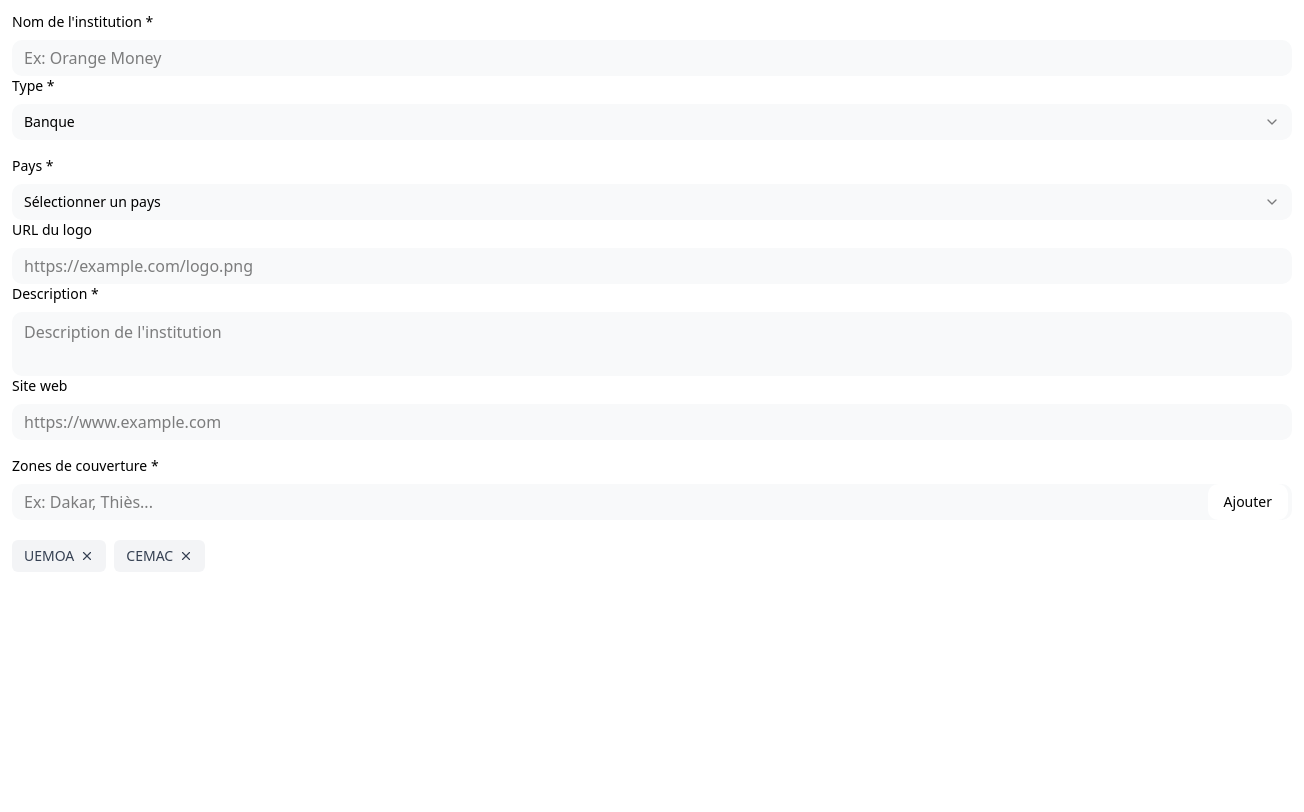
Test: InstitutionFormFields (interactive) › Common behaviors › allows removing zones by clicking on badge
The image size is (1304, 812).
expect the text "CEMAC" is shown: met, box [114,540,205,572]
Click the text "UEMOA" at (59, 556), box [12,540,106,572]
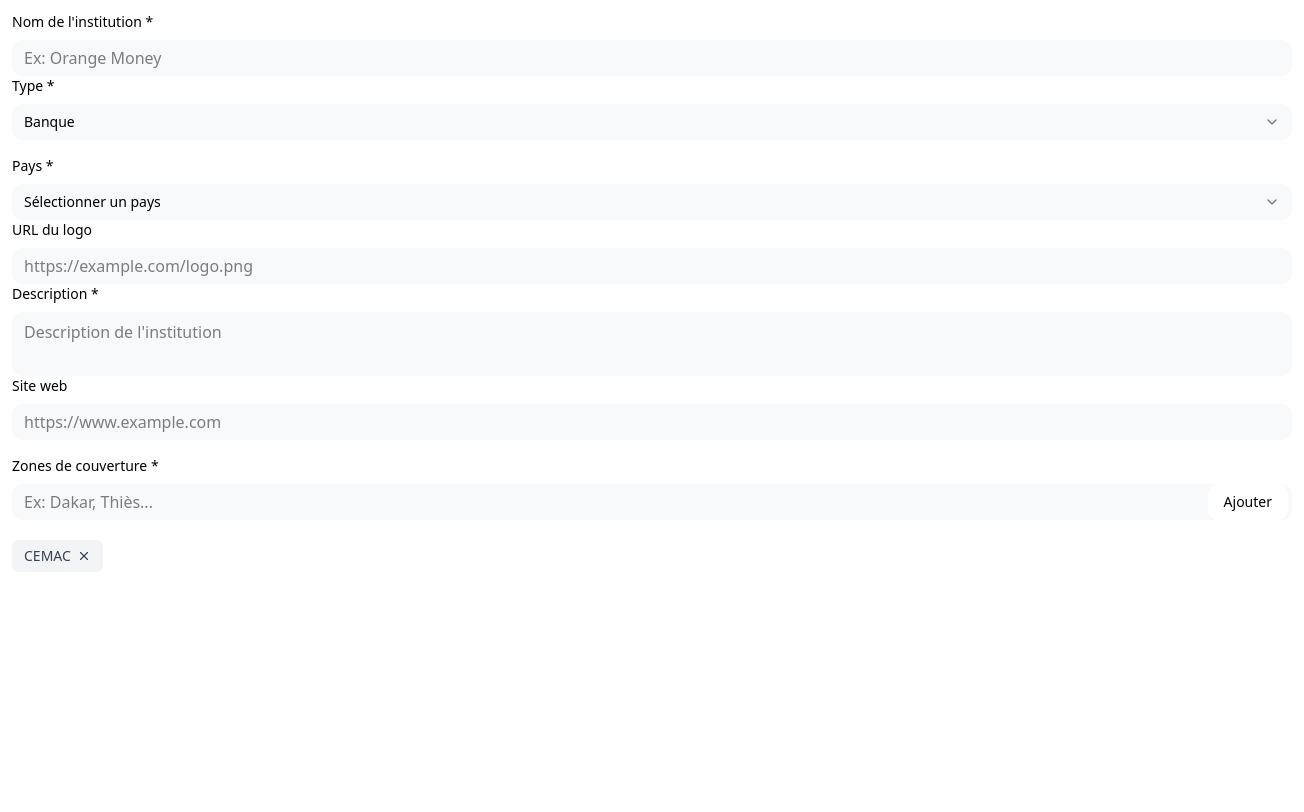
expect the text "UEMOA" is gone: met
